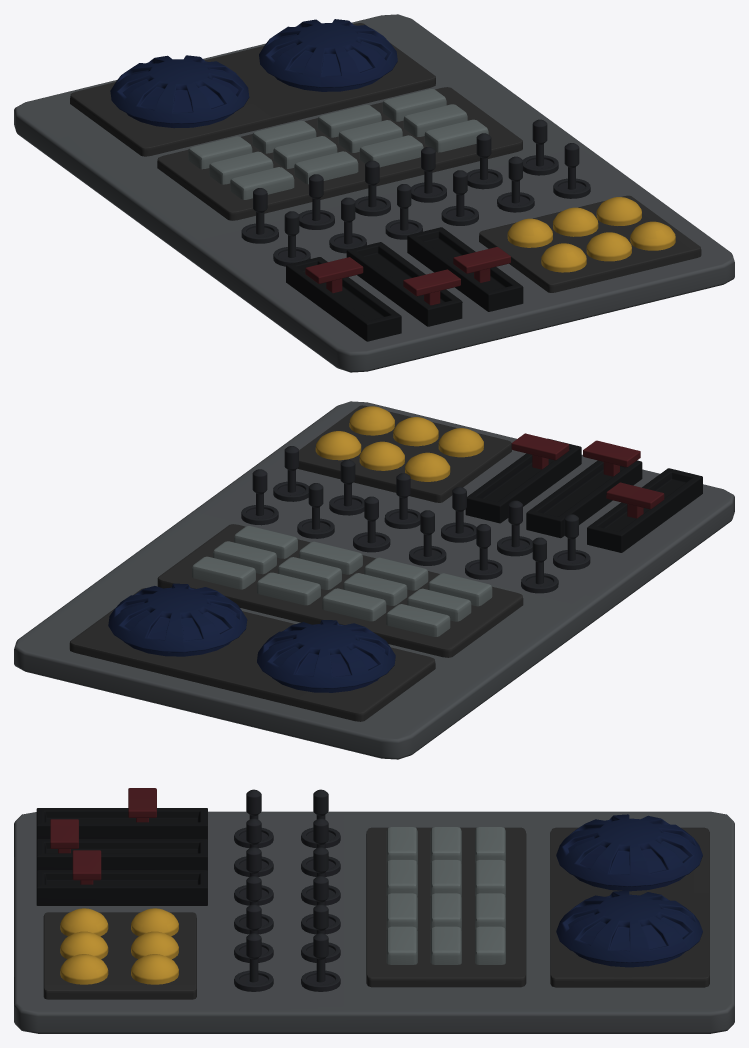
Rendered from Modulo_Riempimento_Singolo5.fbx.
3 views of the same model, one above another, from view 1: azimuth 30°, elevation 25°; view 2: azimuth 150°, elevation 25°; view 3: azimuth 270°, elevation 25° (orthographic). The views are drawn at different scales.
Parts seen in each view (by area): view 1: polySurface256; view 2: polySurface256; view 3: polySurface256.
Part boxes in pixels (box(x1,y1,x2,y2)): polySurface256: box(14, 14, 734, 372); polySurface256: box(14, 401, 734, 759); polySurface256: box(14, 788, 734, 1033).
Bounding box in the file's own units: 20 × 3.28 × 30.
